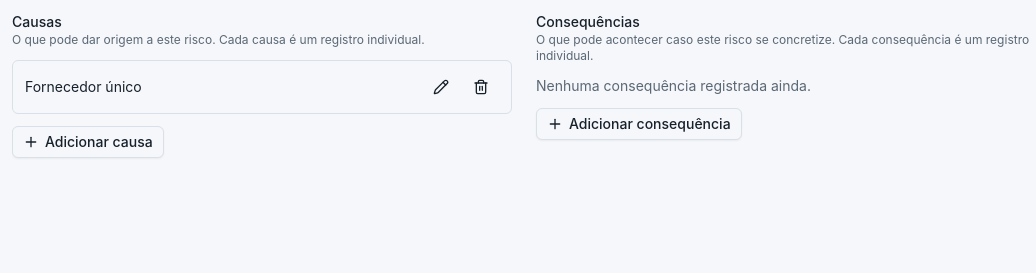
RiskCausesConsequences › opens an existing row pre-filled and labelled "Editando" when Editar is clicked
Click the button named "Editar causa 1" at point(441, 87), box left=423, top=69, right=459, bottom=105
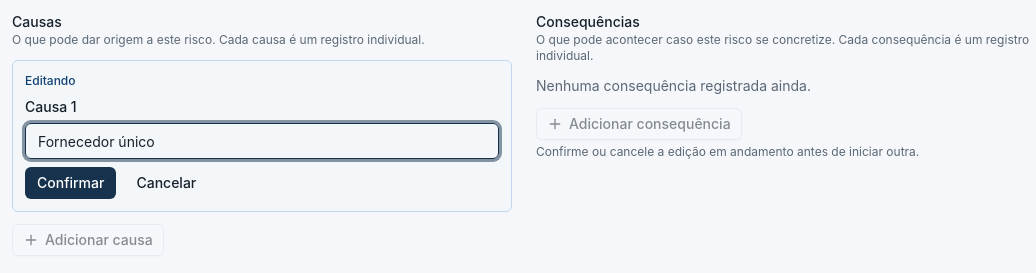
Now the field labelled "Causa 1" holds "Fornecedor único", box left=25, top=123, right=499, bottom=159
Now the text "Editando" is shown, box left=25, top=73, right=76, bottom=88
